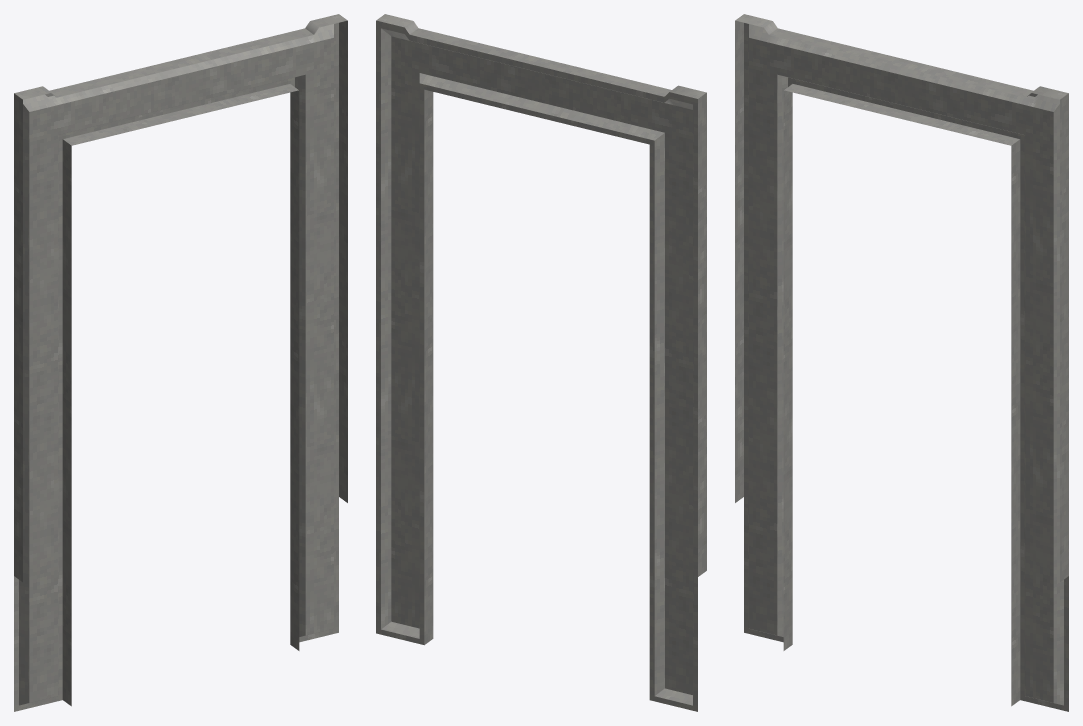
File: GJ_Wall_Trim_01.fbx
3 views of the same model, side by side, from view 1: azimuth 30°, elevation 25°; view 2: azimuth 150°, elevation 25°; view 3: azimuth 330°, elevation 25° (orthographic).
Visible parts, largest first — view 1: GJ_Wall_Trim_01; view 2: GJ_Wall_Trim_01; view 3: GJ_Wall_Trim_01.
Boxes of the visible parts, bbox=[...] form: GJ_Wall_Trim_01: bbox=[14, 14, 347, 711]; GJ_Wall_Trim_01: bbox=[376, 14, 706, 711]; GJ_Wall_Trim_01: bbox=[735, 14, 1068, 711].
Bounding box in the file's own units: 125 × 228 × 5.98.
